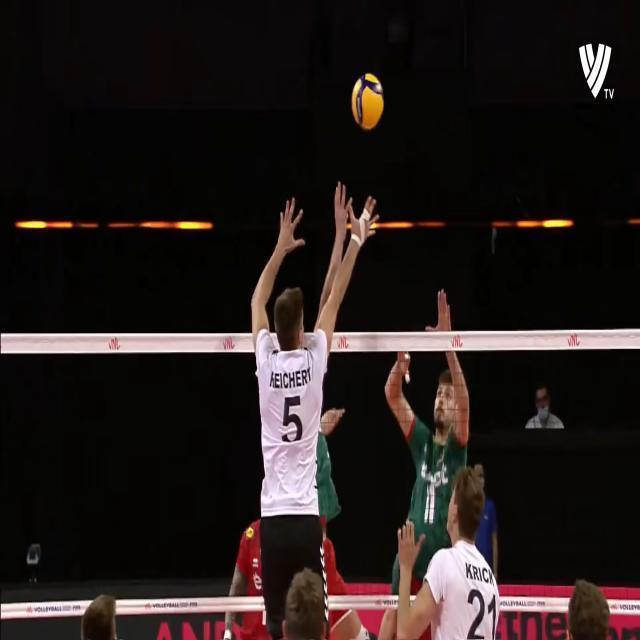volleyball: (352, 73, 384, 129)
